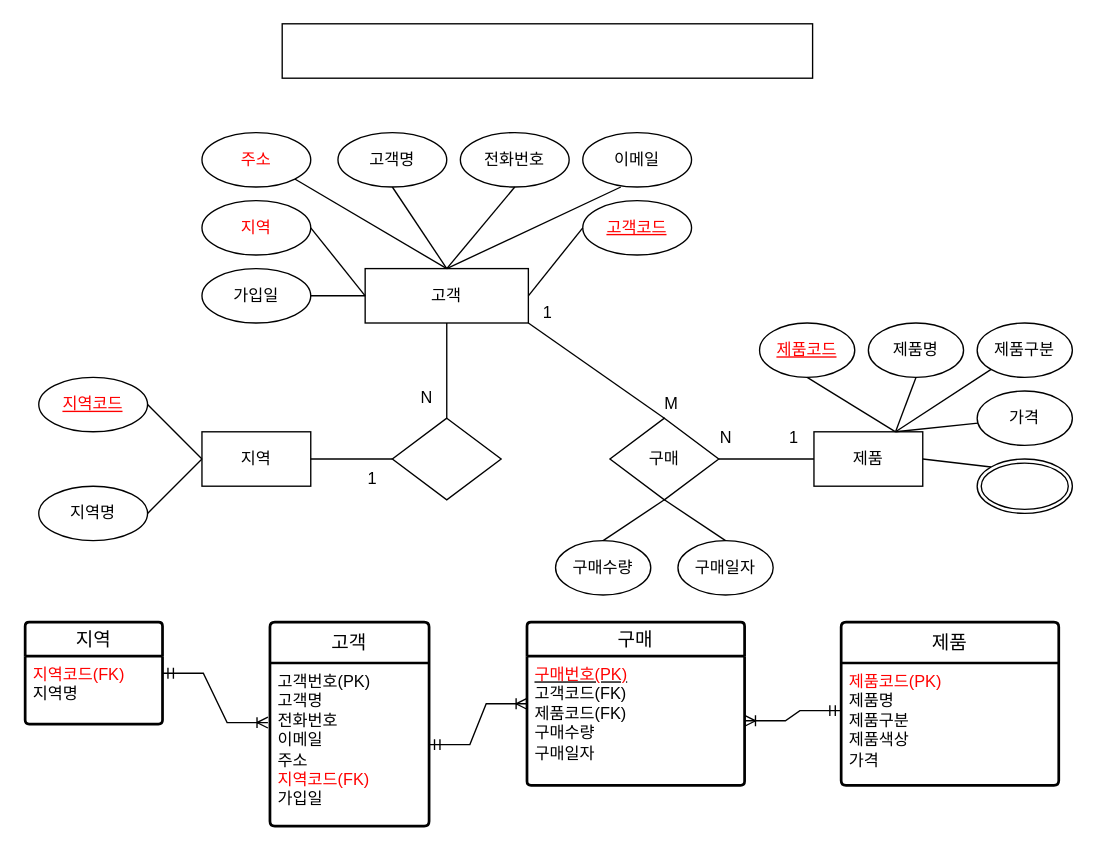
The diagram is 1096 pixels wide and 851 high, and some of its shapes have lost their labels. Each missing label, with the centre of its shape:
"Logical Data Modeling(RM)논리적 모델링" belongs at point 547,50.
"관리" belongs at point 446,458.
"제품색상" belongs at point 1024,485.
